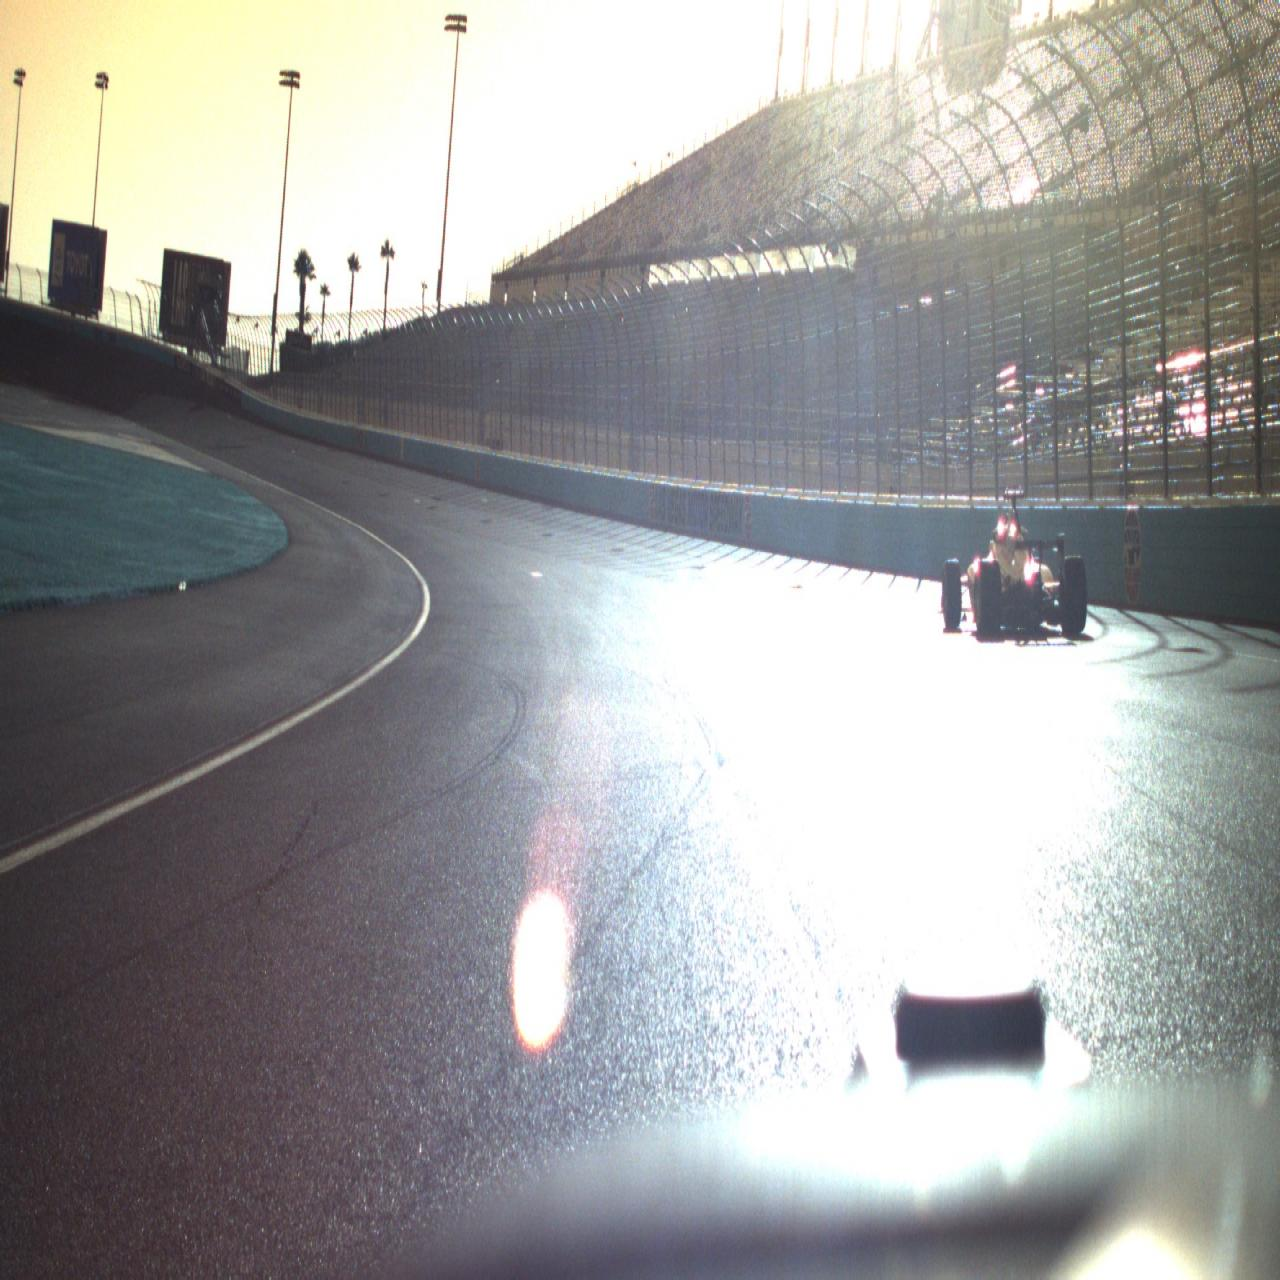AV: (938, 488, 1088, 638)
Wheel: (1058, 555, 1088, 636), (974, 560, 1001, 638), (943, 560, 961, 630)
